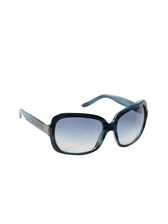glasses: (13, 95, 152, 154)
